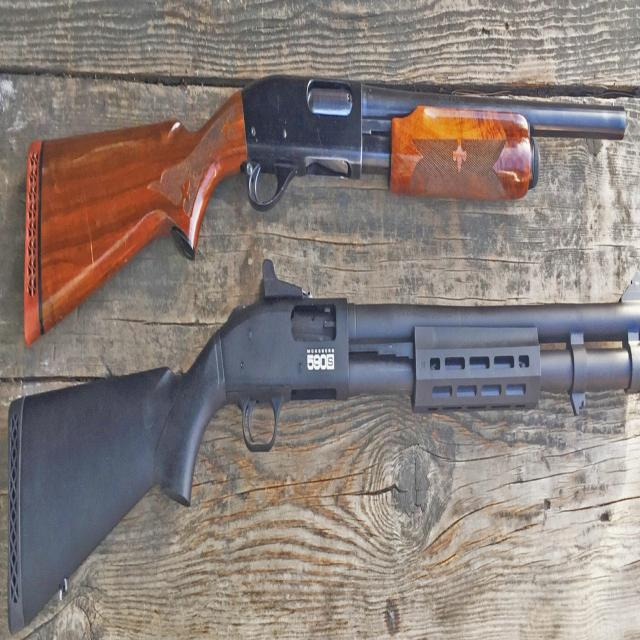Weapon: (7, 259, 640, 632), (23, 75, 626, 344)
